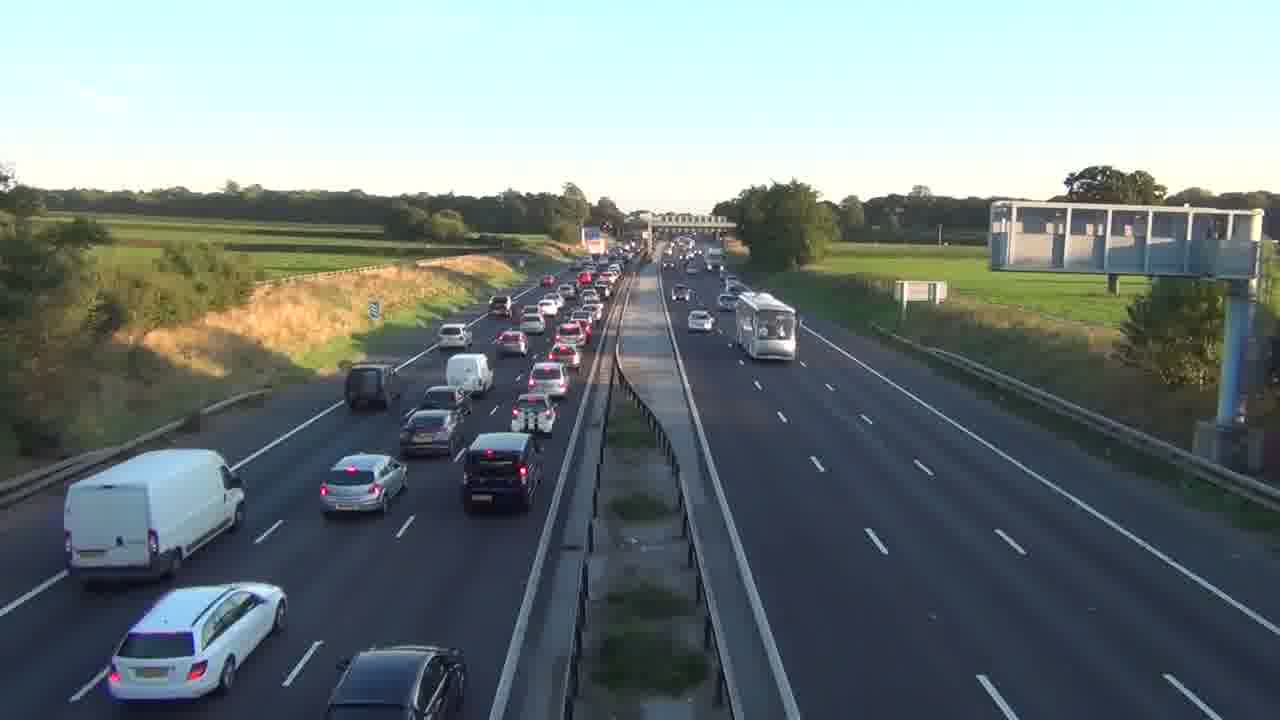bus: (735, 290, 800, 360)
car: (105, 580, 289, 704), (324, 642, 469, 718), (461, 431, 544, 514), (318, 452, 408, 517), (398, 408, 456, 458)
truck: (62, 446, 247, 584), (461, 431, 544, 514), (446, 353, 494, 398)
